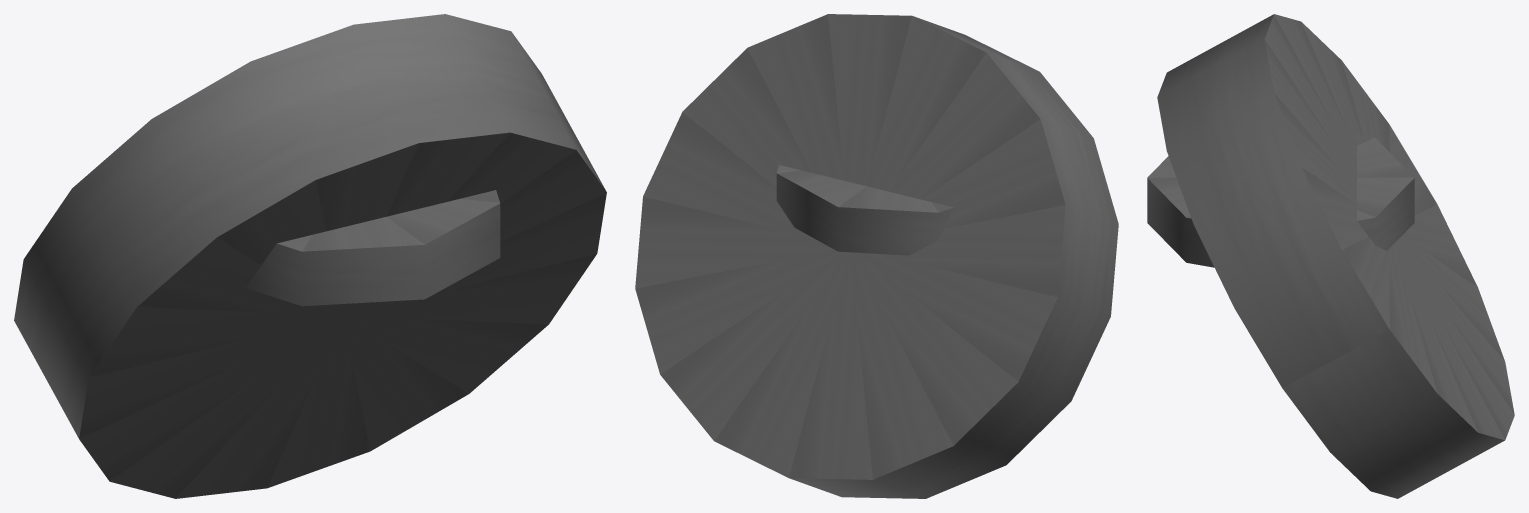
Rendered from mastarmcurve_6x2_c0_up.obj.
3 renders of one model, left to right at view 1: azimuth 30°, elevation 25°; view 2: azimuth 150°, elevation 25°; view 3: azimuth 270°, elevation 25°, orthographic. The views are drawn at different scales.
Parts seen in each view (by area): view 1: mastarm_6x2_c0_up; view 2: mastarm_6x2_c0_up; view 3: mastarm_6x2_c0_up.
Part boxes in pixels (bbox=[...]): mastarm_6x2_c0_up: bbox=[14, 14, 606, 498]; mastarm_6x2_c0_up: bbox=[635, 14, 1118, 498]; mastarm_6x2_c0_up: bbox=[1147, 14, 1514, 498].
Size of the model in its own units: 0.7254 by 0.7182 by 0.5498.
